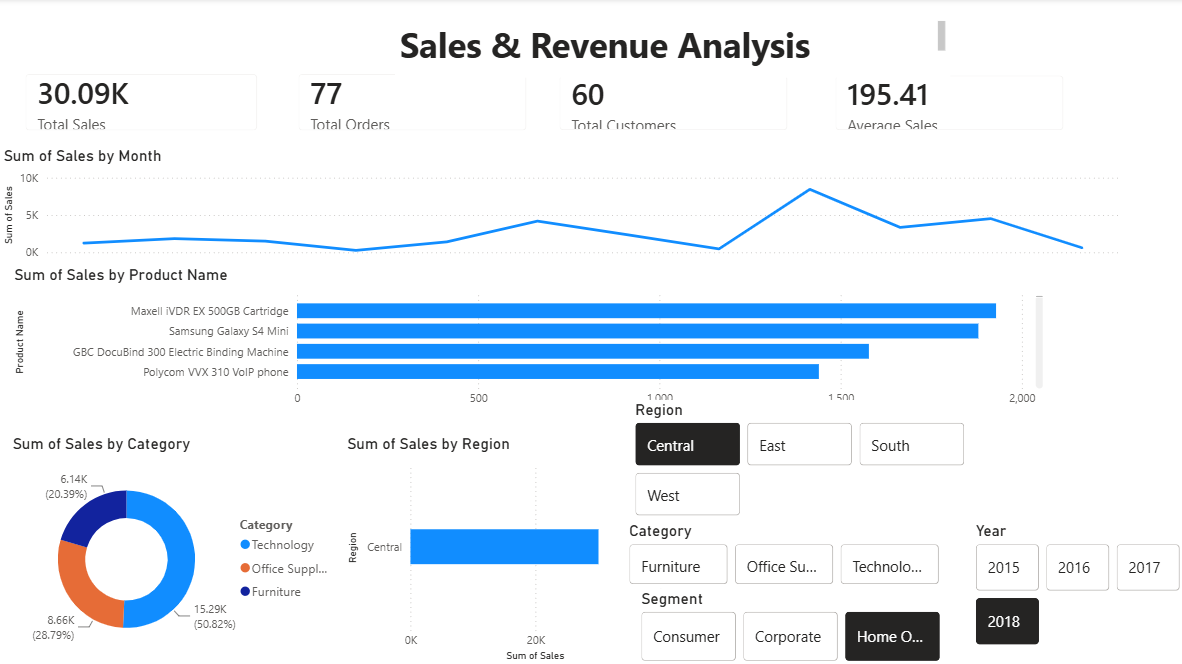

This screenshot's page, from the dashboard's own definition file:
{"tool":"powerbi","page":{"name":"Page 1","canvas":[1280,720],"ordinal":0},"visuals":[{"type":"cardVisual","fields":{"Data":["Sum(SampleSuperstore.Sales)"]},"box":[11.3,64.8,285,95.5],"z":0},{"type":"cardVisual","fields":{"Data":["SampleSuperstore.Total Orders"]},"box":[306,64.8,280.1,95.5],"z":1},{"type":"cardVisual","fields":{"Data":["SampleSuperstore.Total Customers"]},"box":[587.8,66.4,280.1,93.9],"z":2},{"type":"cardVisual","fields":{"Data":["SampleSuperstore.Average Sales"]},"box":[885.7,66.4,280.1,93.9],"z":3},{"type":"lineChart","fields":{"Category":["SampleSuperstore.Order Date.Variation.Date Hierarchy.Month"],"Y":["Sum(SampleSuperstore.Sales)"]},"box":[0,160.3,1212.8,127.9],"z":4},{"type":"clusteredBarChart","fields":{"Category":["SampleSuperstore.Product Name"],"Y":["Sum(SampleSuperstore.Sales)"]},"box":[11.3,288.2,1120.5,161.9],"z":5},{"type":"donutChart","fields":{"Category":["SampleSuperstore.Category"],"Y":["Sum(SampleSuperstore.Sales)"]},"box":[9.7,471.2,361.1,249.4],"z":6},{"type":"barChart","fields":{"Category":["SampleSuperstore.Region"],"Y":["Sum(SampleSuperstore.Sales)"]},"box":[370.8,471.2,357.8,249.4],"z":7},{"type":"advancedSlicerVisual","fields":{"Values":["SampleSuperstore.Region"]},"box":[681.7,434,367.6,131.2],"z":8},{"type":"advancedSlicerVisual","fields":{"Values":["SampleSuperstore.Category"]},"box":[675.2,565.1,346.5,72.9],"z":9},{"type":"advancedSlicerVisual","fields":{"Values":["SampleSuperstore.Segment"]},"box":[688.2,638,333.6,82.6],"z":10},{"type":"advancedSlicerVisual","fields":{"Values":["SampleSuperstore.Order Date.Variation.Date Hierarchy.Year"]},"box":[1049.3,565.1,231.5,137.6],"z":11},{"type":"textbox","box":[427.5,19.4,599.1,66.4],"z":12}]}

Visuals, with their boxes in screenshot pixels (x1, y1, x2, y2), scaled from the page's 1280x720 canvas onto the 1182x664 screenshot:
cardVisual - Sum(SampleSuperstore.Sales): 10,60,274,148
cardVisual - SampleSuperstore.Total Orders: 283,60,541,148
cardVisual - SampleSuperstore.Total Customers: 543,61,801,148
cardVisual - SampleSuperstore.Average Sales: 818,61,1077,148
lineChart - SampleSuperstore.Order Date.Variation.Date Hierarchy.Month x Sum(SampleSuperstore.Sales): 0,148,1120,266
clusteredBarChart - SampleSuperstore.Product Name x Sum(SampleSuperstore.Sales): 10,266,1045,415
donutChart - SampleSuperstore.Category x Sum(SampleSuperstore.Sales): 9,435,342,663
barChart - SampleSuperstore.Region x Sum(SampleSuperstore.Sales): 342,435,673,663
advancedSlicerVisual - SampleSuperstore.Region: 630,400,969,521
advancedSlicerVisual - SampleSuperstore.Category: 624,521,943,588
advancedSlicerVisual - SampleSuperstore.Segment: 636,588,944,663
advancedSlicerVisual - SampleSuperstore.Order Date.Variation.Date Hierarchy.Year: 969,521,1181,648
textbox: 395,18,948,79
